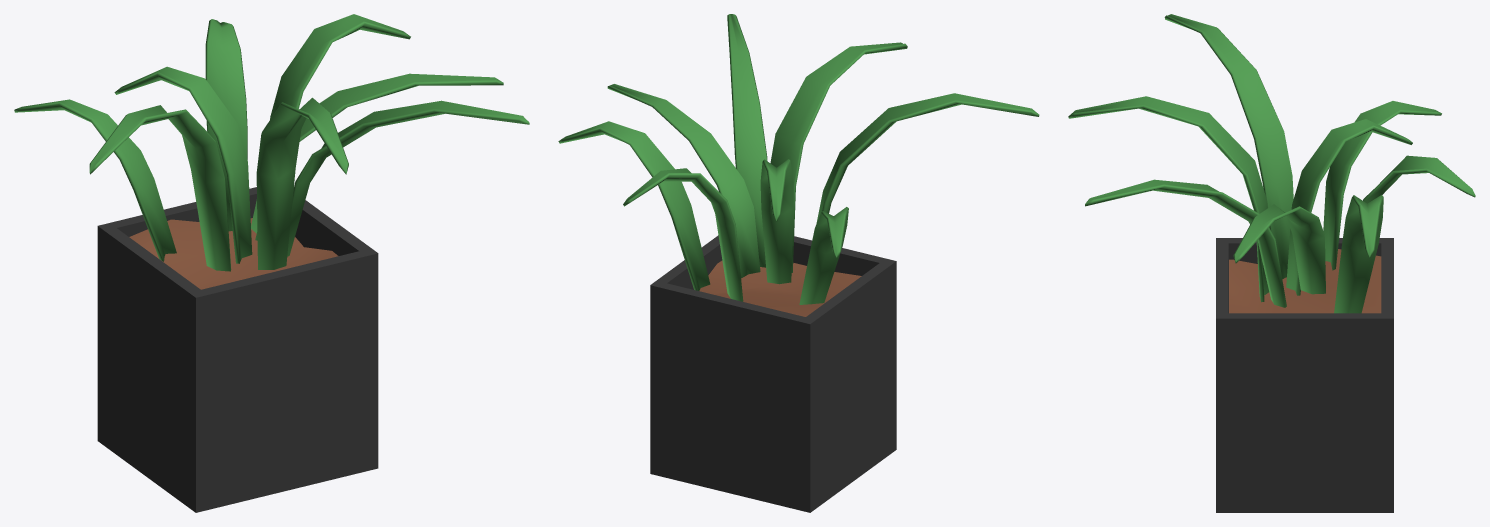
Rendered from M_Plantpot_Small_0.fbx.
3 views of the same model, side by side, from view 1: azimuth 30°, elevation 25°; view 2: azimuth 150°, elevation 25°; view 3: azimuth 270°, elevation 25° (orthographic). The views are drawn at different scales.
Parts seen in each view (by area): view 1: M_Plantpot_Small_0; view 2: M_Plantpot_Small_0; view 3: M_Plantpot_Small_0.
Part boxes in pixels (<box>): M_Plantpot_Small_0: <box>14,14,529,512</box>; M_Plantpot_Small_0: <box>558,14,1039,512</box>; M_Plantpot_Small_0: <box>1068,14,1475,512</box>.
Size of the model in its own units: 654 by 573 by 564.
